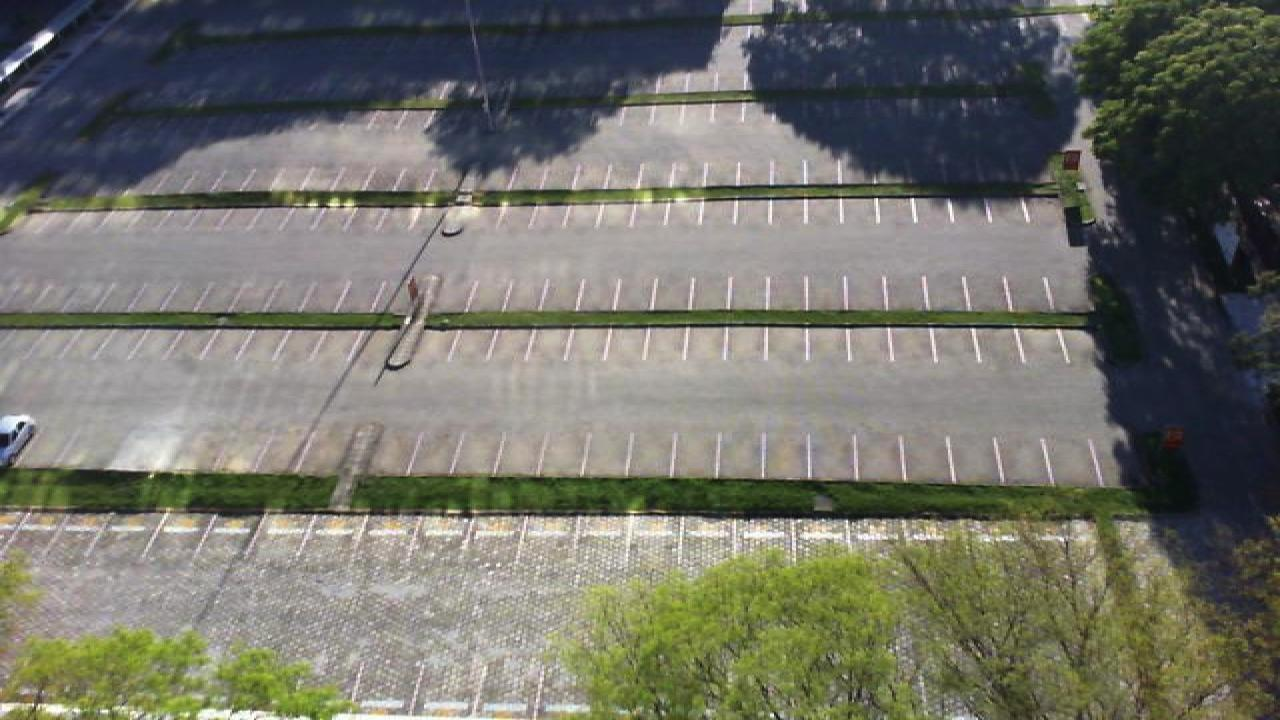Car: (0, 415, 36, 468)
